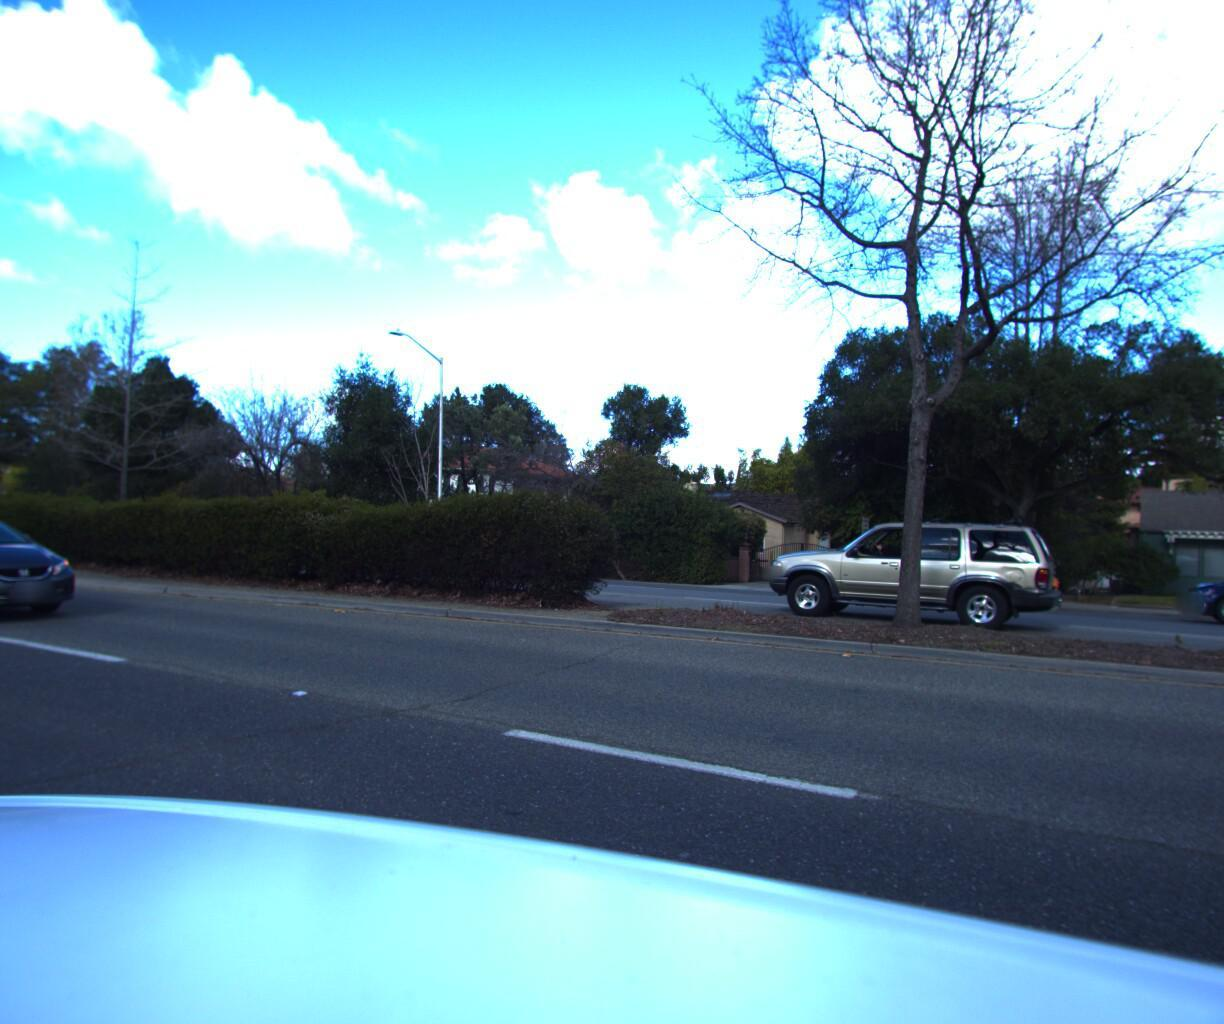car: (759, 507, 1070, 631), (0, 496, 113, 626), (1187, 543, 1224, 636)
